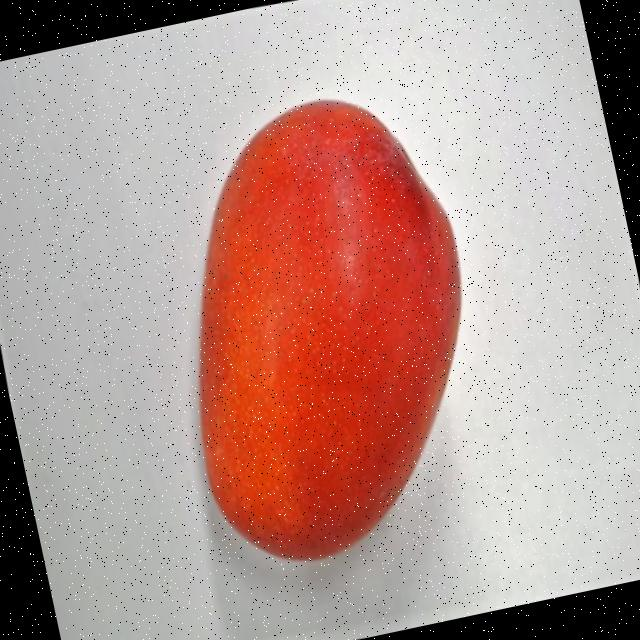mango: (199, 99, 462, 560)
